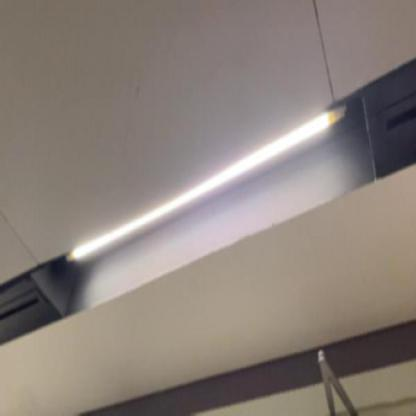light_on: (60, 100, 353, 272)
